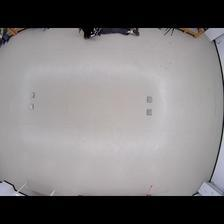fall: (78, 27, 140, 39)
